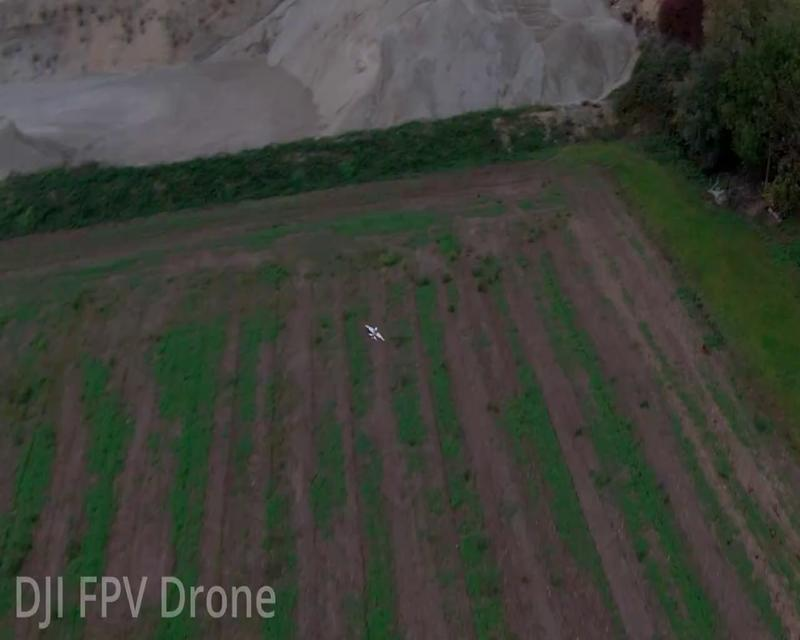UAV: (366, 323, 384, 342)
